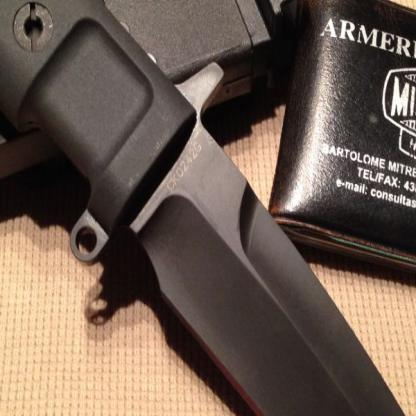knife: (119, 121, 416, 415)
